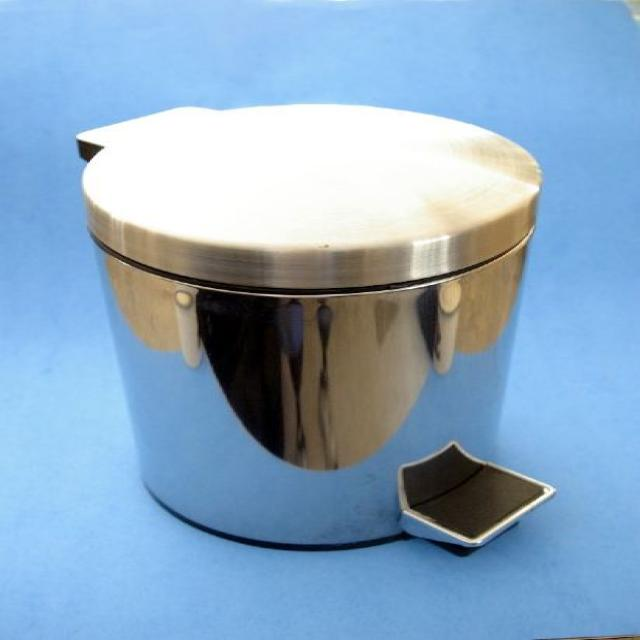metal: (64, 116, 579, 560)
